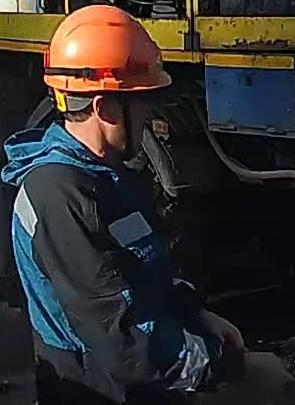helmet: (40, 4, 172, 99)
vest: (4, 154, 239, 388)
